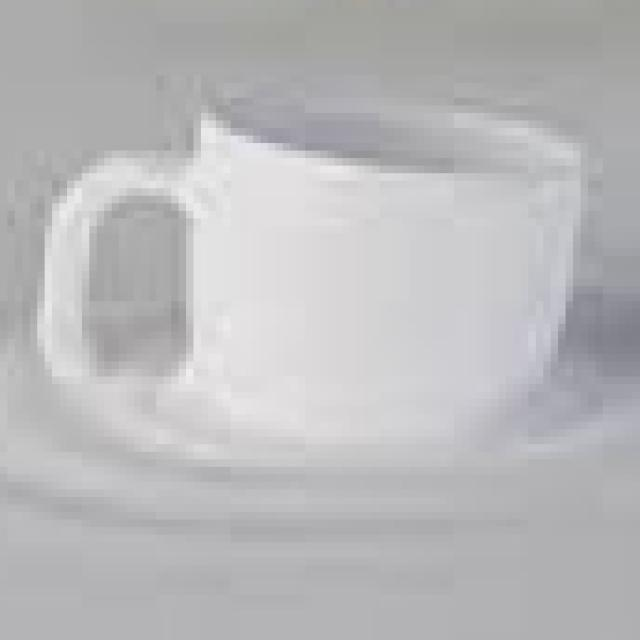taza: (8, 49, 635, 582)
